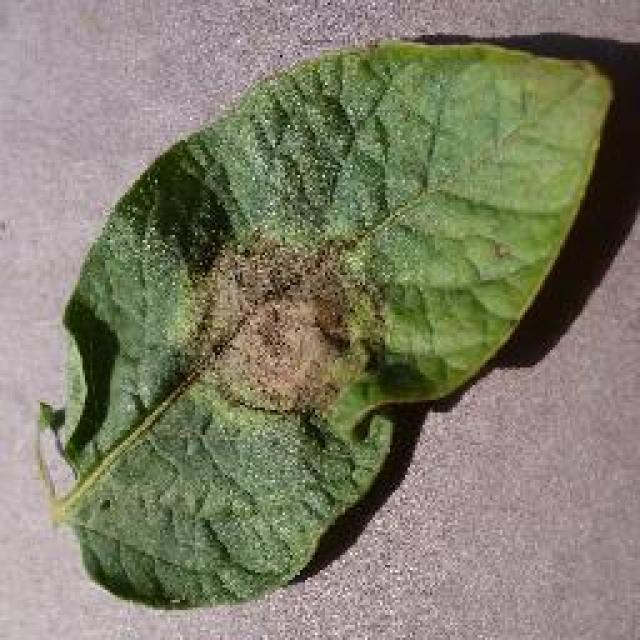late_blight: (35, 32, 617, 612)
